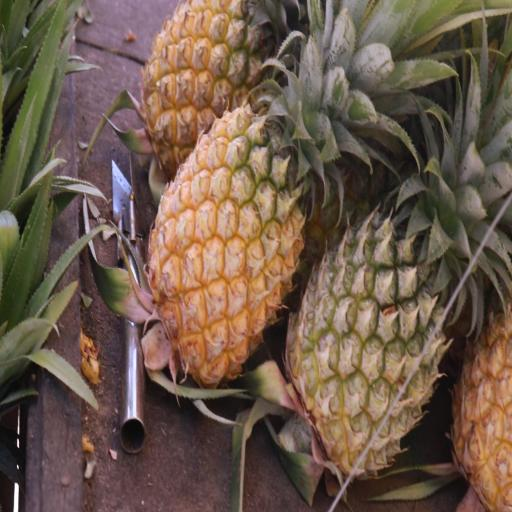Pineapple - v8 v1: (127, 76, 298, 390), (136, 3, 267, 178)
